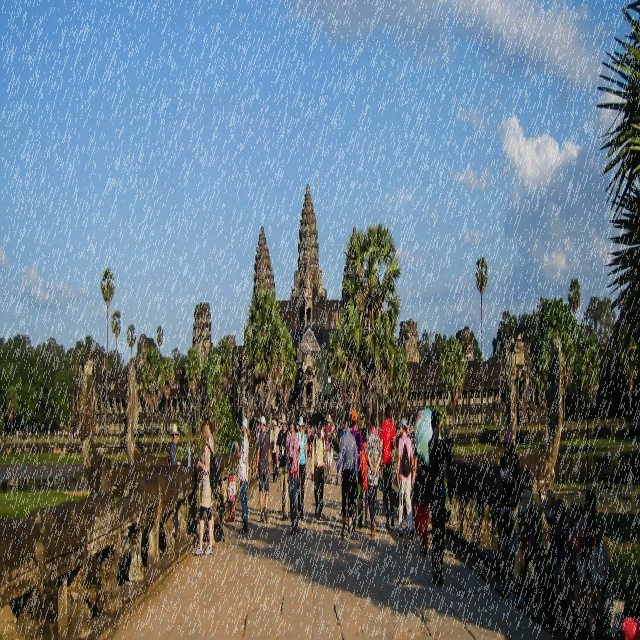pessoa: (570, 518, 616, 639), (504, 484, 542, 610), (427, 407, 452, 593), (538, 496, 570, 632), (563, 486, 603, 592), (334, 411, 358, 543), (193, 421, 215, 557), (364, 410, 384, 540), (395, 416, 415, 540), (408, 444, 429, 560), (380, 401, 398, 534), (278, 399, 342, 434), (283, 412, 300, 539), (233, 412, 250, 535), (274, 411, 292, 524), (255, 413, 272, 525), (202, 414, 216, 550), (498, 421, 520, 504), (536, 488, 558, 570), (310, 418, 327, 524), (350, 408, 363, 530), (0, 425, 85, 443), (296, 414, 308, 520), (358, 426, 370, 531), (324, 414, 336, 486), (269, 417, 279, 484), (168, 422, 180, 466), (407, 412, 418, 458), (304, 434, 314, 459), (405, 417, 412, 442), (339, 420, 347, 440)
